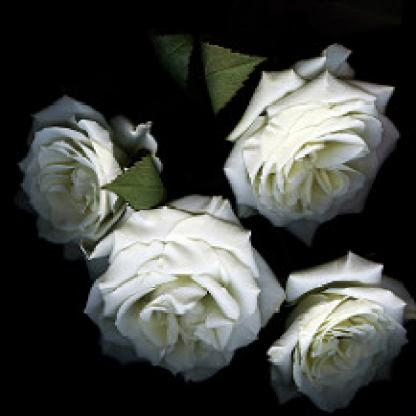ROSE-MAWAR: (13, 34, 415, 415)
